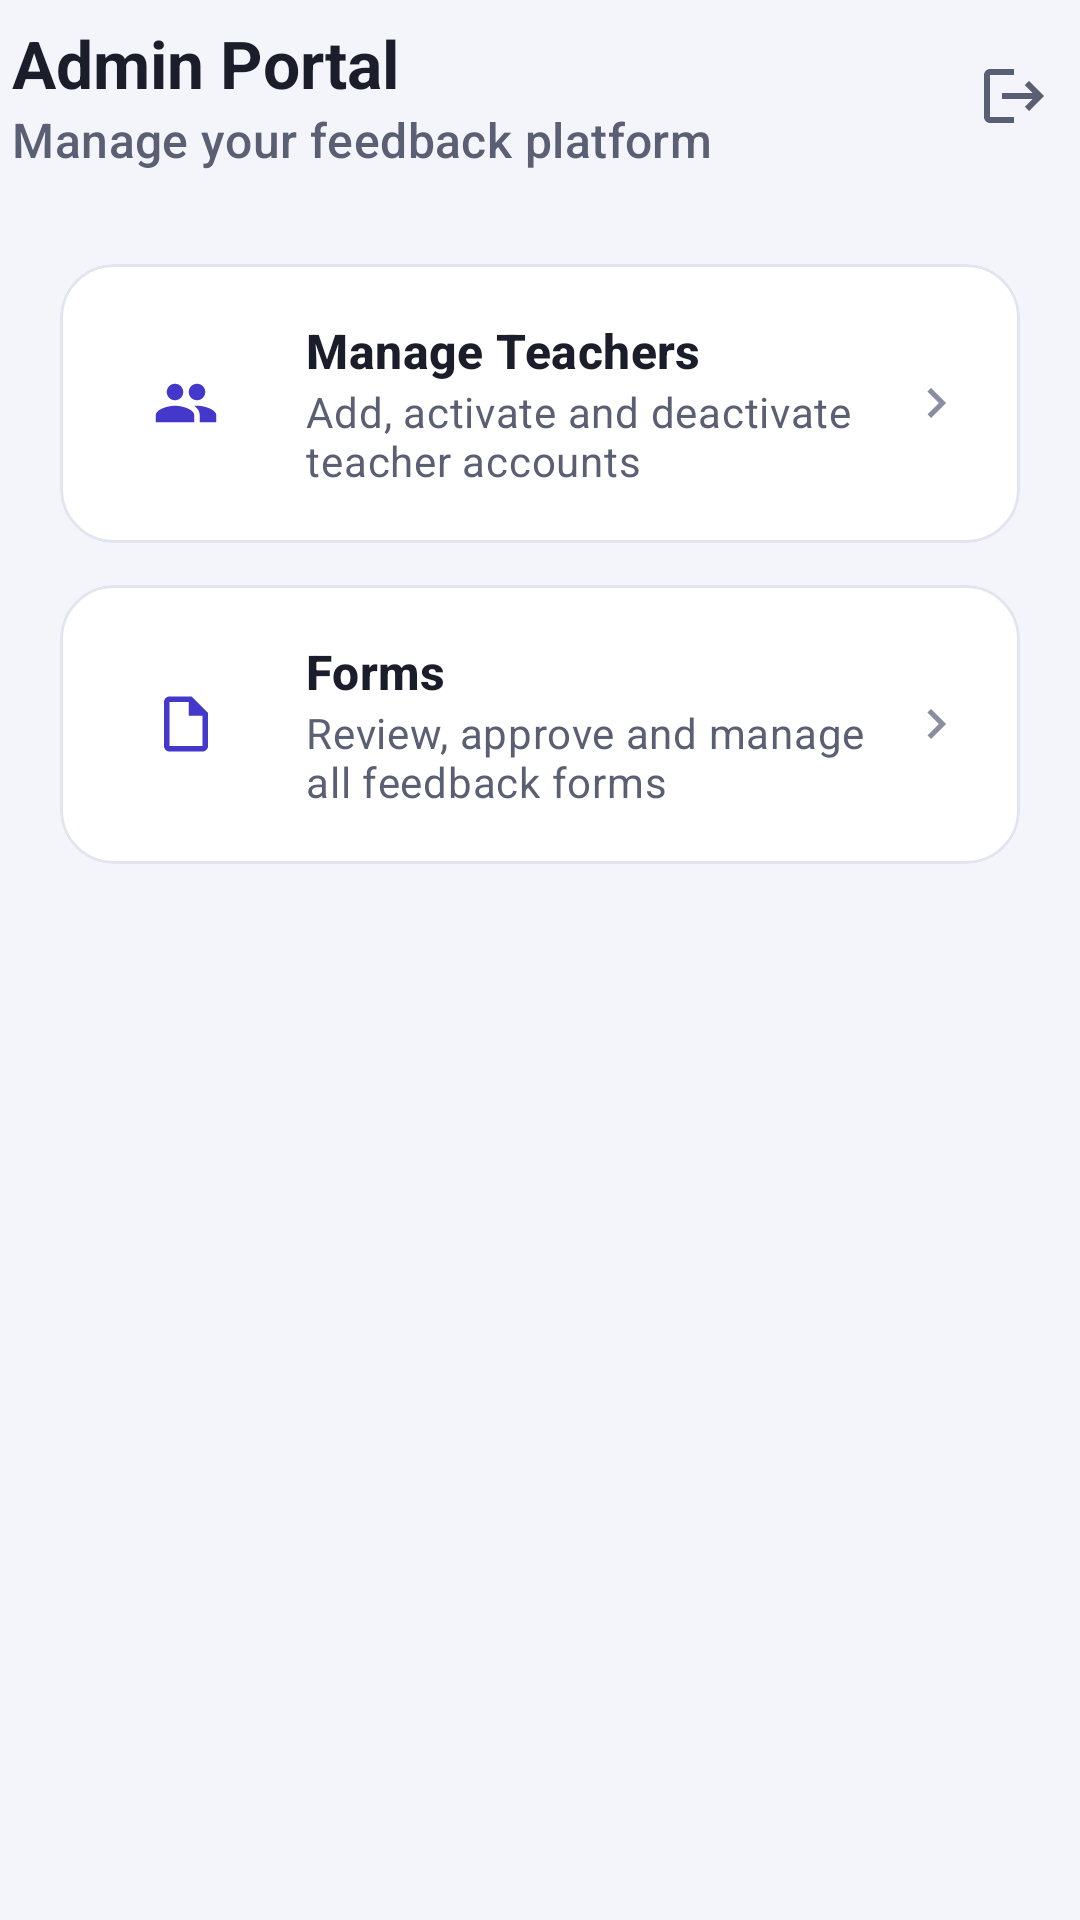

Icon bounding boxes for this 1080×1920 phone screenshot, format (x1, y1, x2, y2):
chevron right: (927, 388, 946, 418), (927, 709, 946, 739)
description: (164, 696, 208, 752)
